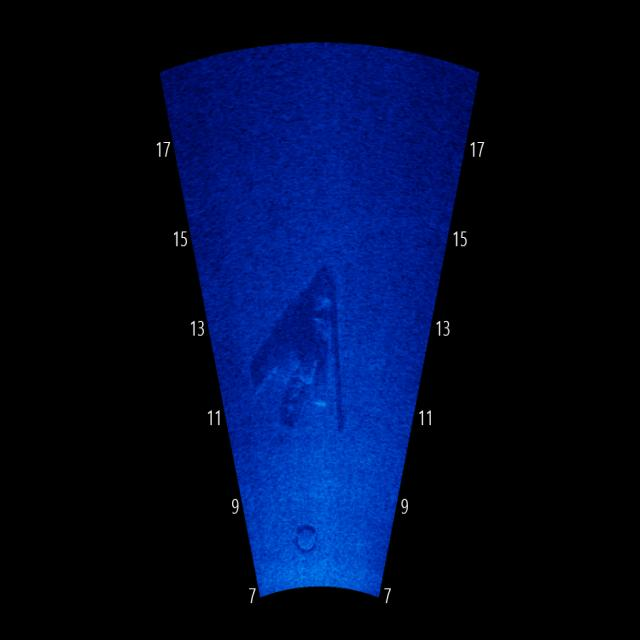triangle: (234, 260, 379, 437)
